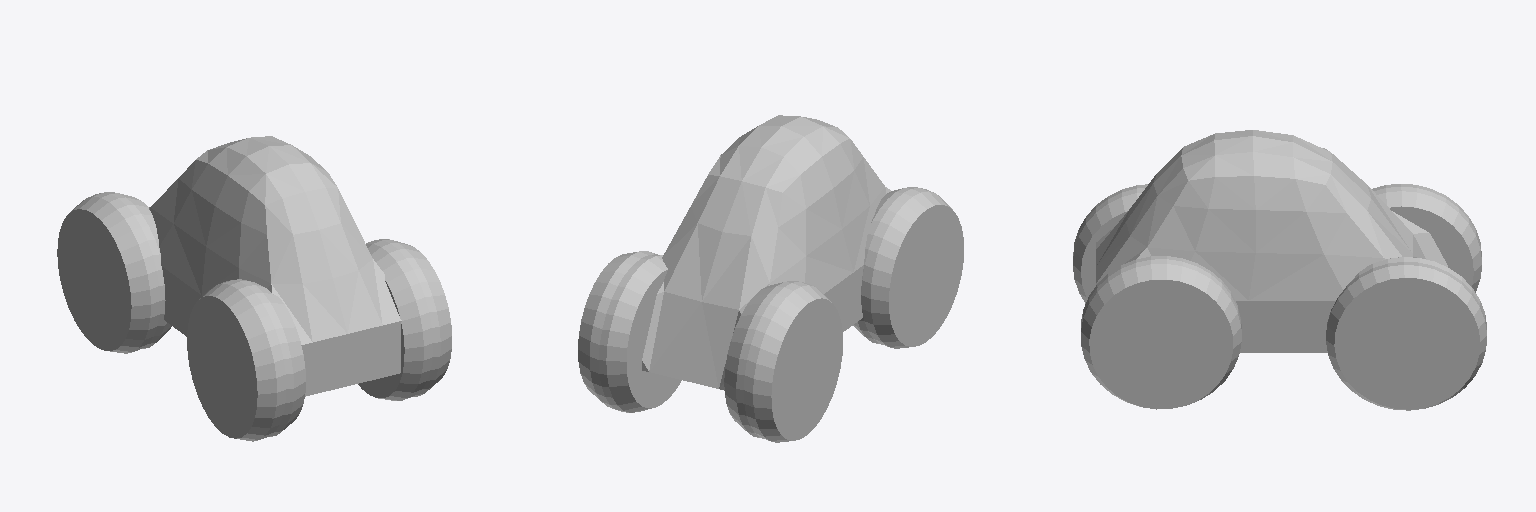
Rendered from car.obj.
The picture shows the model from 3 angles: view 1: azimuth 30°, elevation 25°; view 2: azimuth 150°, elevation 25°; view 3: azimuth 270°, elevation 25°; orthographic projection.
Parts seen in each view (by area): view 1: Cube, Roue_arG_Cylinder.001, Roue_avG_Cylinder.003, Roue_arD_Cylinder.002; view 2: Cube, Roue_avG_Cylinder.003, Roue_arG_Cylinder.001, Roue_avD_Cylinder; view 3: Cube, Roue_arD_Cylinder.002, Roue_avD_Cylinder, Roue_avG_Cylinder.003, Roue_arG_Cylinder.001.
Boxes of the visible parts, box(x1,y1,x2,y2) form: Cube: box(149, 136, 401, 396); Roue_arG_Cylinder.001: box(187, 279, 305, 441); Roue_avG_Cylinder.003: box(57, 192, 171, 353); Roue_arD_Cylinder.002: box(358, 239, 451, 400); Cube: box(642, 115, 890, 390); Roue_avG_Cylinder.003: box(724, 281, 842, 442); Roue_arG_Cylinder.001: box(853, 187, 963, 348); Roue_avD_Cylinder: box(578, 251, 681, 412); Cube: box(1096, 130, 1447, 352); Roue_arD_Cylinder.002: box(1081, 256, 1241, 409); Roue_avD_Cylinder: box(1326, 257, 1486, 410); Roue_avG_Cylinder.003: box(1372, 184, 1481, 292); Roue_arG_Cylinder.001: box(1073, 184, 1147, 303).
Bounding box in the file's own units: 2.9 × 3.28 × 5.13.